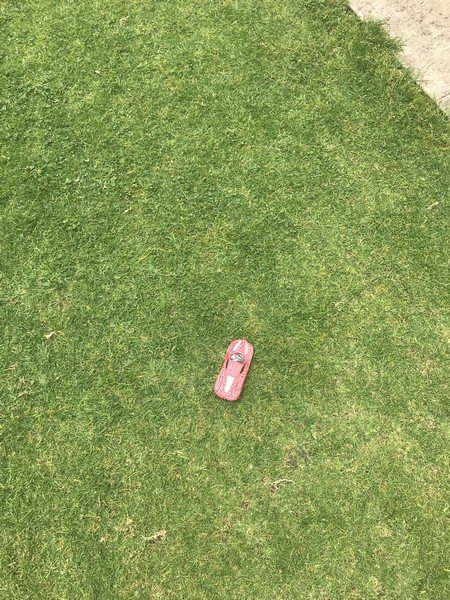RC: (213, 338, 256, 405)
